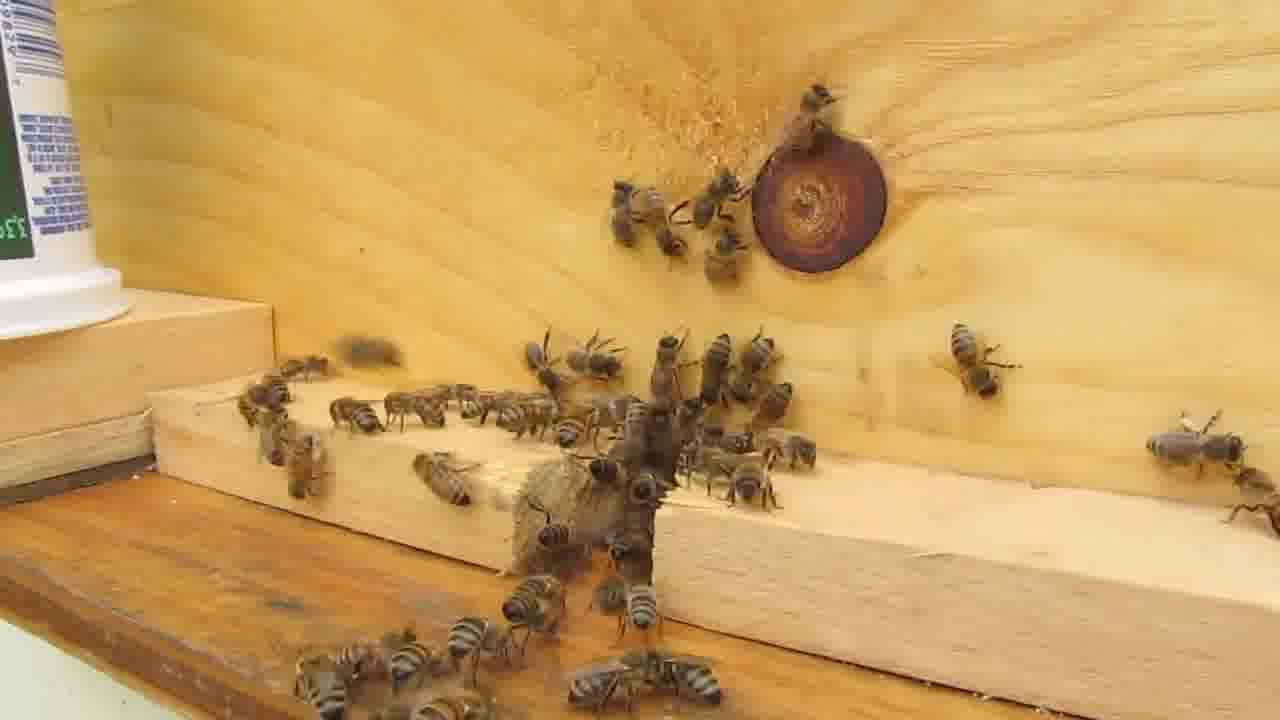pollen: (1140, 410, 1245, 478)
